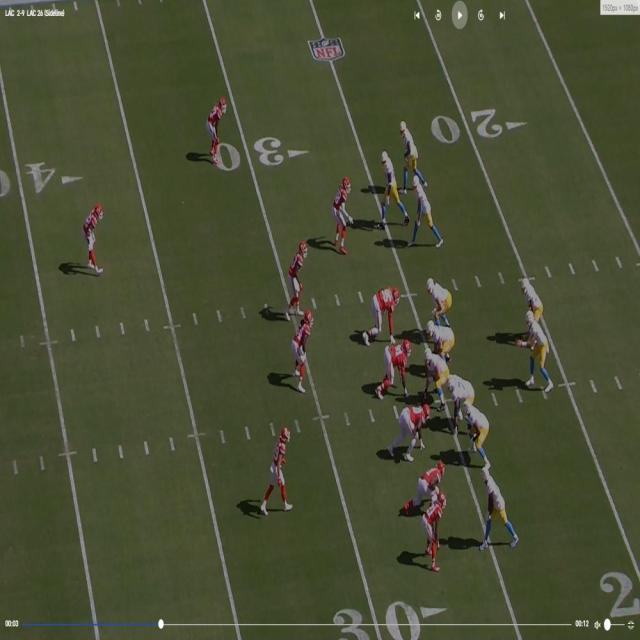center: (419, 347, 444, 394)
db: (270, 429, 292, 512), (424, 494, 444, 567), (206, 97, 226, 157), (84, 203, 102, 269), (337, 180, 352, 248)
lb: (288, 245, 305, 322), (296, 320, 312, 392)
qb: (527, 315, 549, 386)
skill: (486, 469, 509, 538), (415, 178, 436, 241), (380, 152, 401, 212), (400, 120, 420, 175), (524, 276, 539, 330)
